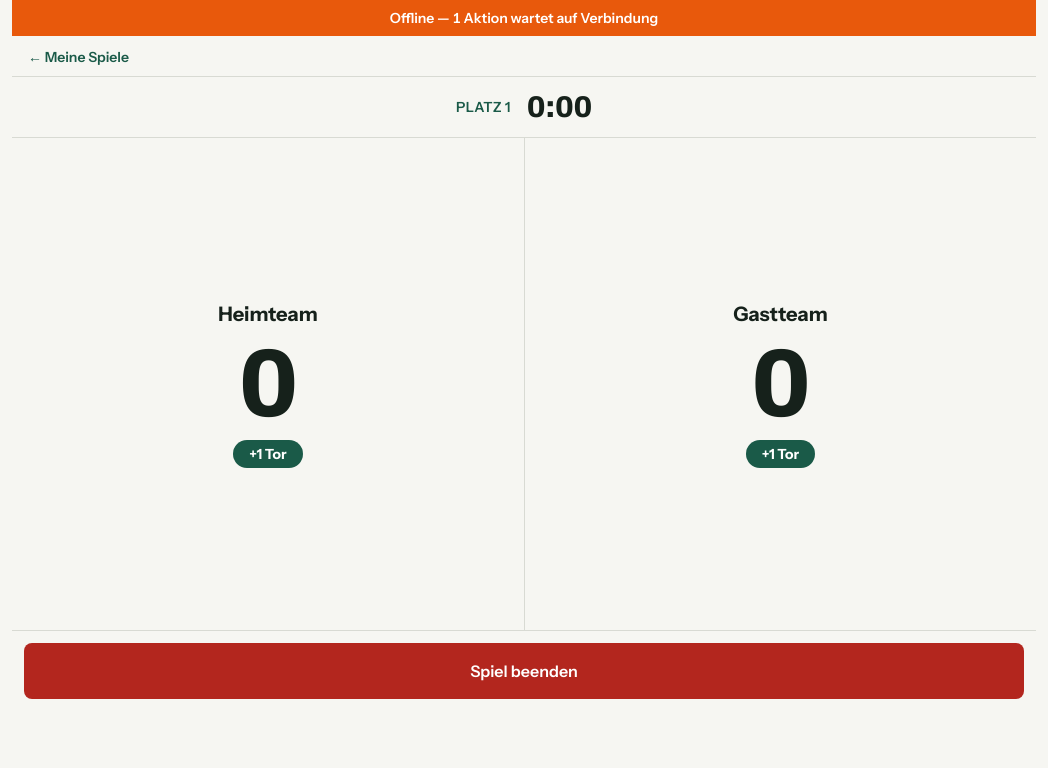
Test: RefereeMatch offline scoring › shows the referee that the goal is held, not dropped
The image size is (1048, 768).
Click the text "Heimteam": {"x": 268, "y": 314} [210, 300, 326, 328]
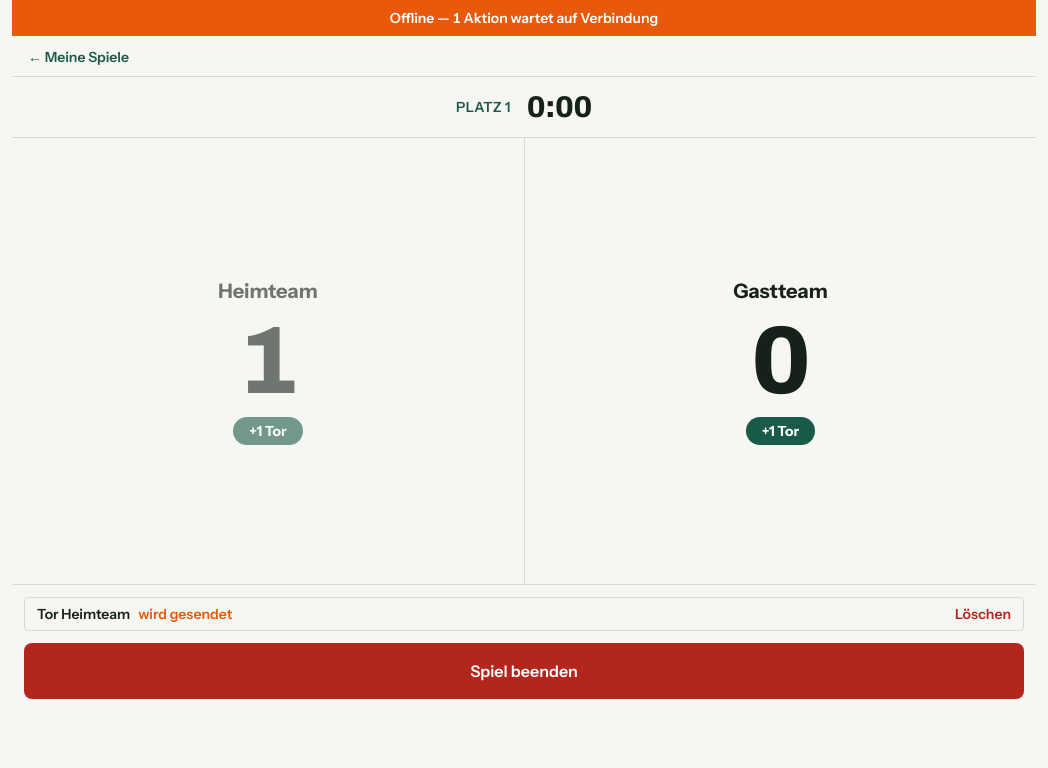
Expected: the text "Offline — 1 Aktion wartet auf Verbindung" is shown, [12, 0, 1036, 36]
Expected: the text "wird gesendet" is shown, [138, 604, 232, 624]
